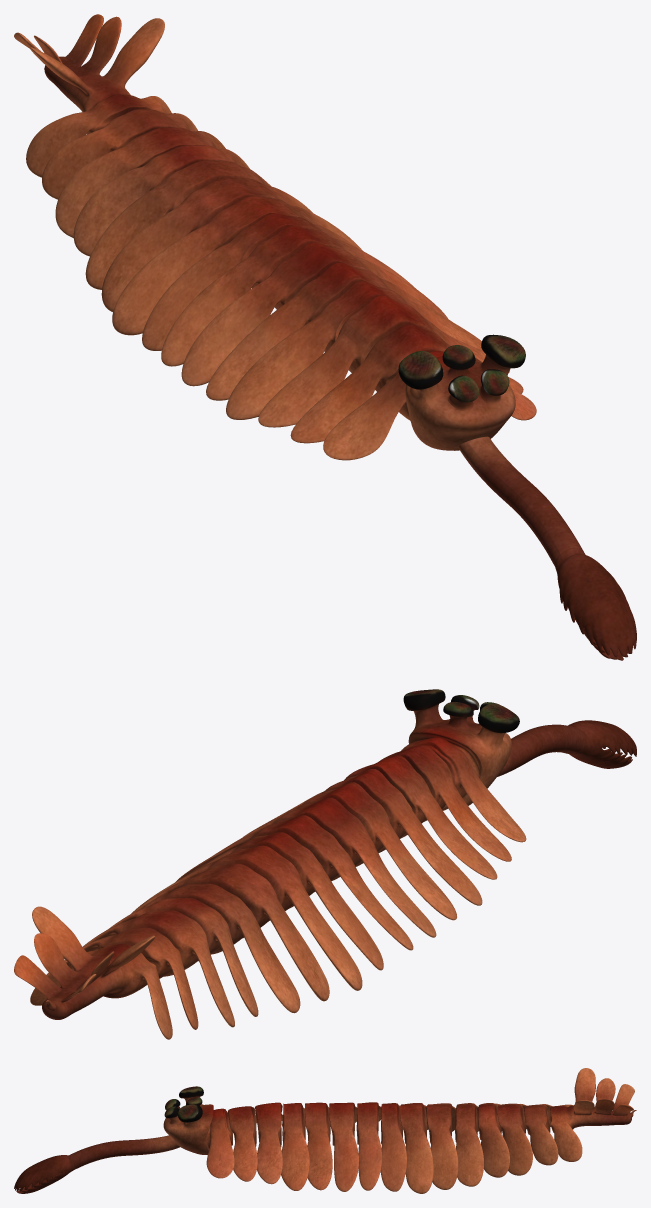
File: Opabinia - a 500m-year-old creature with five eyes.glb
3 renders of one model, top to bottom at view 1: azimuth 30°, elevation 25°; view 2: azimuth 150°, elevation 25°; view 3: azimuth 270°, elevation 25°, orthographic. The views are drawn at different scales.
Visible parts, largest first — view 1: g Default; view 2: g Default; view 3: g Default.
Part boxes in pixels (box(x1,y1,x2,y2)): g Default: box(14, 14, 636, 660); g Default: box(14, 689, 636, 1039); g Default: box(14, 1068, 636, 1193).
Bounding box in the file's own units: 0.0178 × 0.0142 × 0.07.
Materials: 1 (1 with a texture image).
